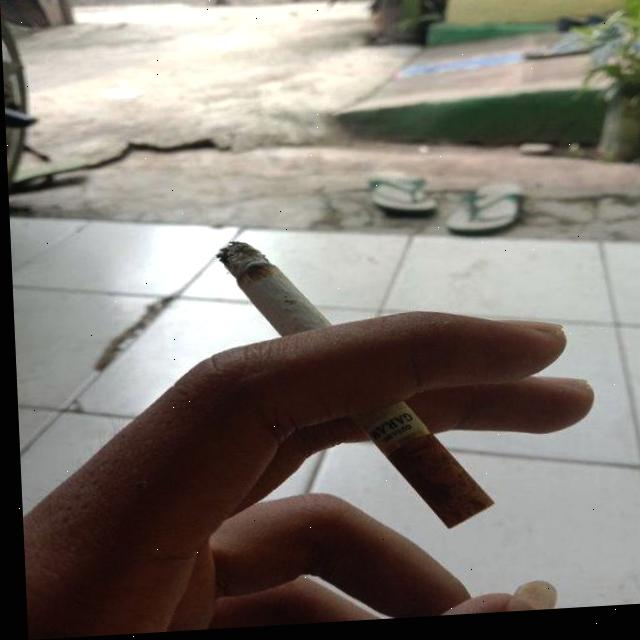cigarette: (215, 232, 489, 545)
